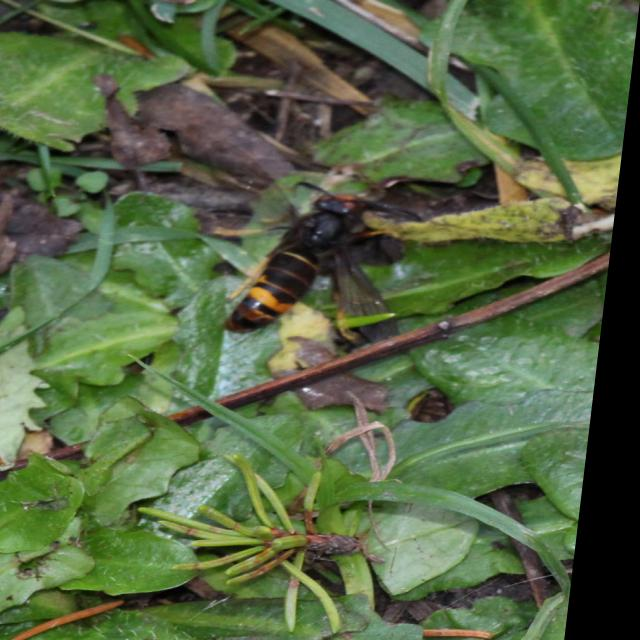Vespa Velutina: (197, 171, 451, 361)
